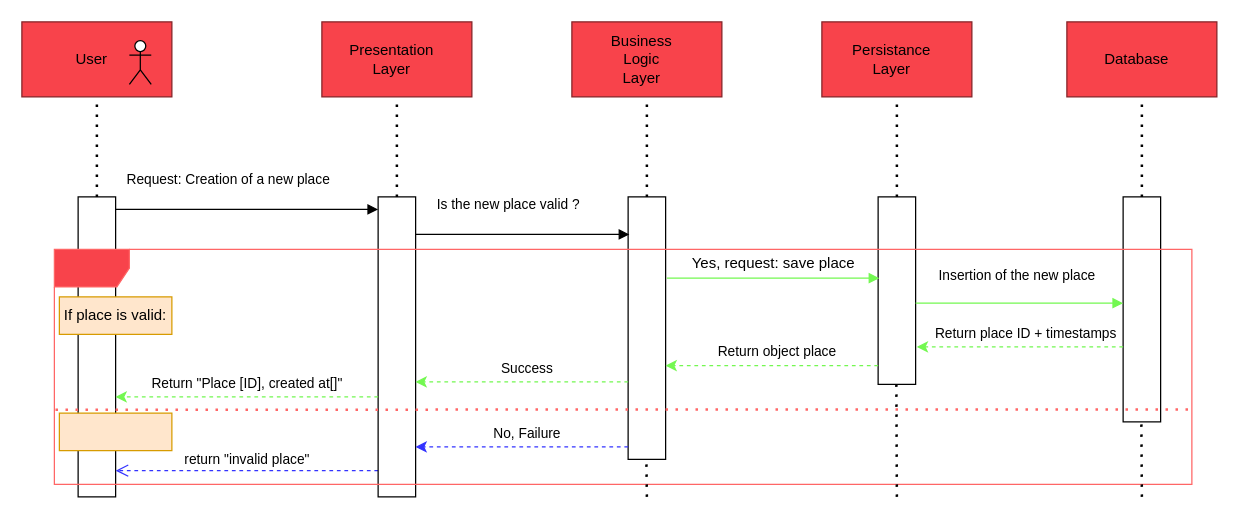
The diagram is 1239 pixels wide and 521 high, and some of its shapes have lost their labels. Here are the shapes that lost their labels. From the top down, the box of each, then its label:
(53, 248, 1192, 484): ALT
(58, 412, 172, 451): Else:
